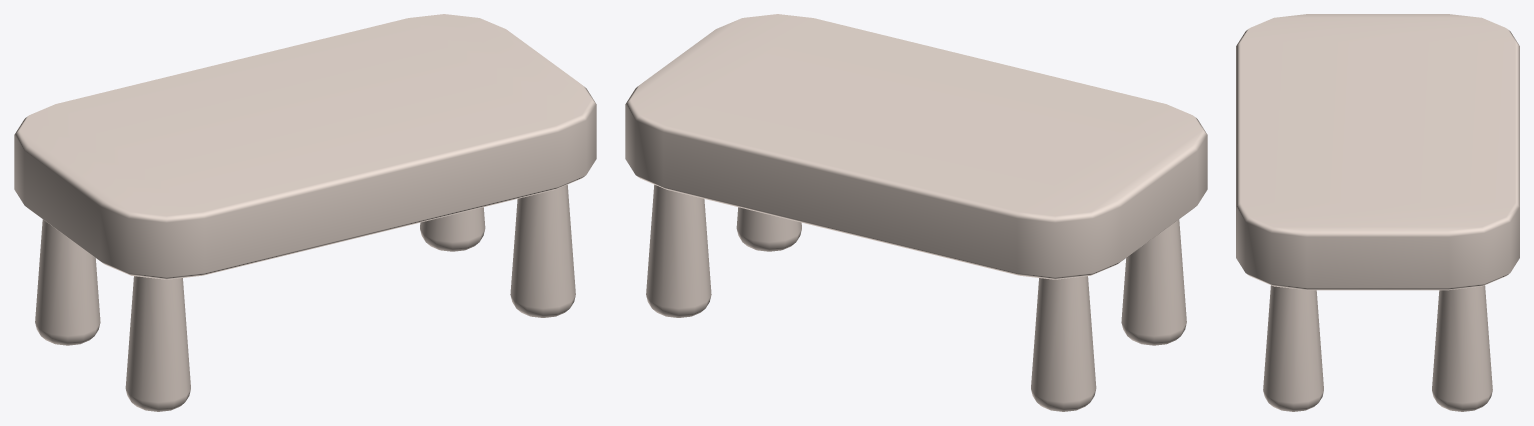
Rendered from Table_3.glb.
3 views of the same model, side by side, from view 1: azimuth 30°, elevation 25°; view 2: azimuth 150°, elevation 25°; view 3: azimuth 270°, elevation 25° (orthographic). The views are drawn at different scales.
Parts seen in each view (by area): view 1: Table_3; view 2: Table_3; view 3: Table_3.
Boxes of the visible parts, x1,y1,x2,y2 form: Table_3: (14,14,596,411); Table_3: (625,14,1207,411); Table_3: (1236,14,1519,411).
Size of the model in its own units: 1.33 by 0.5435 by 0.7207.
Materials: 1 (1 with a texture image).
